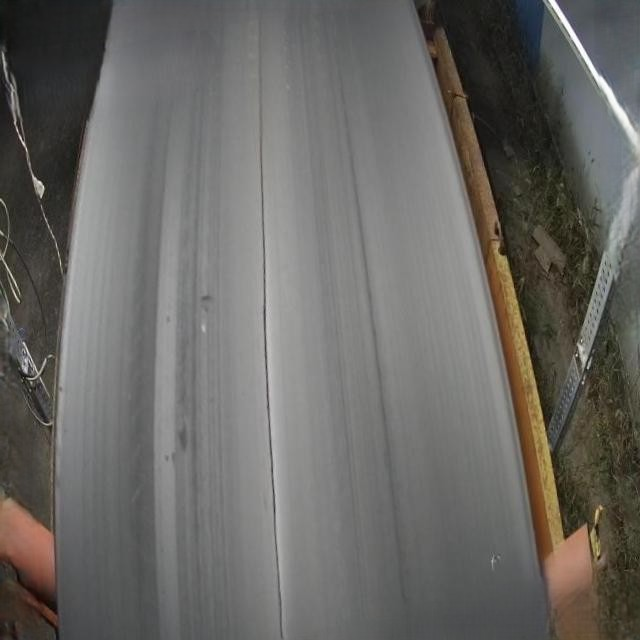Tear: (251, 5, 286, 640)
